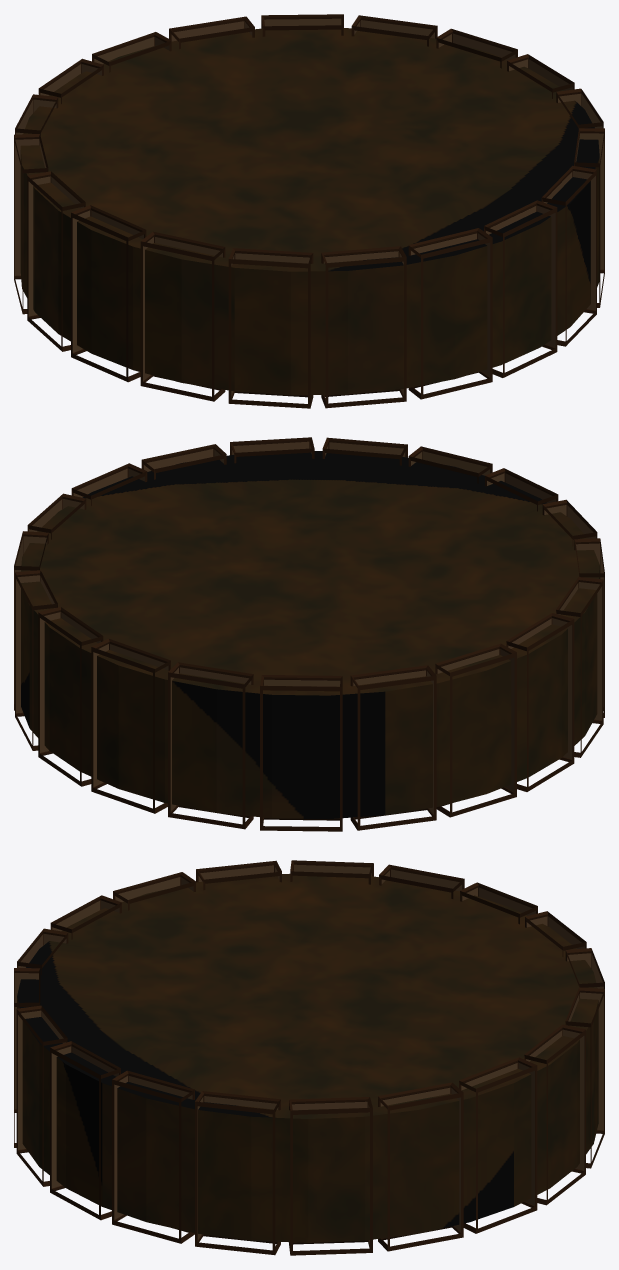
File: garden_bed.glb
3 renders of one model, top to bottom at view 1: azimuth 30°, elevation 25°; view 2: azimuth 150°, elevation 25°; view 3: azimuth 270°, elevation 25°, orthographic.
Visible parts, largest first — view 1: Plank; view 2: Plank; view 3: Plank.
Part boxes in pixels (box(x1,y1,x2,y2)): Plank: box(14, 14, 604, 408); Plank: box(14, 437, 604, 831); Plank: box(14, 860, 604, 1255).
Size of the model in its own units: 4.22 by 1.14 by 4.22.
Materials: 3 (2 with a texture image).
